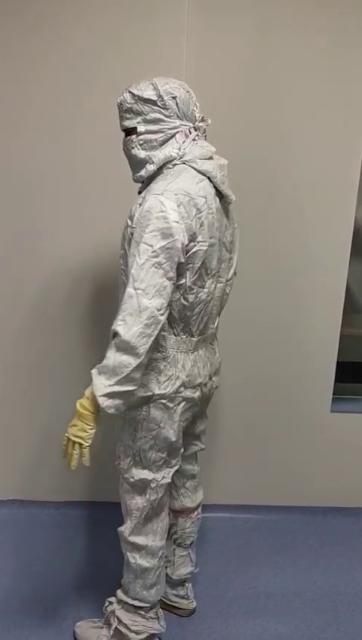boot_not_secured: (69, 558, 157, 640)
gloves_not_fitted_securely: (60, 358, 130, 478)
headgear_not_secured_backside: (110, 78, 244, 214)
